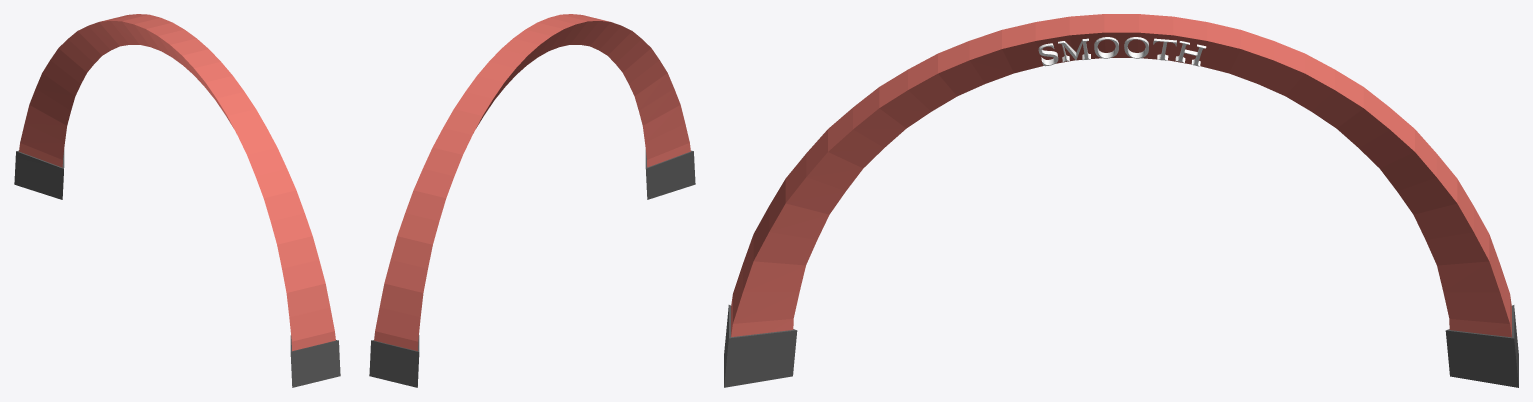
The model's file is Curved_Arch_SMOOTH.glb.
The picture shows the model from 3 angles, left to right: view 1: azimuth 30°, elevation 25°; view 2: azimuth 150°, elevation 25°; view 3: azimuth 270°, elevation 25°; orthographic projection. The views are drawn at different scales.
Visible parts, largest first — view 1: Arc_, Feets_; view 2: Arc_, Feets_; view 3: Arc_, Feets_, SMOOTH.
Part boxes in pixels (x1,y1,x2,y2): Arc_: [19, 14, 335, 351]; Feets_: [14, 149, 340, 387]; Arc_: [374, 14, 690, 351]; Feets_: [369, 150, 695, 387]; Arc_: [731, 14, 1511, 337]; Feets_: [724, 305, 1518, 387]; SMOOTH: [1038, 37, 1206, 66].
Size of the model in its own units: 1195 by 5828 by 11887.
